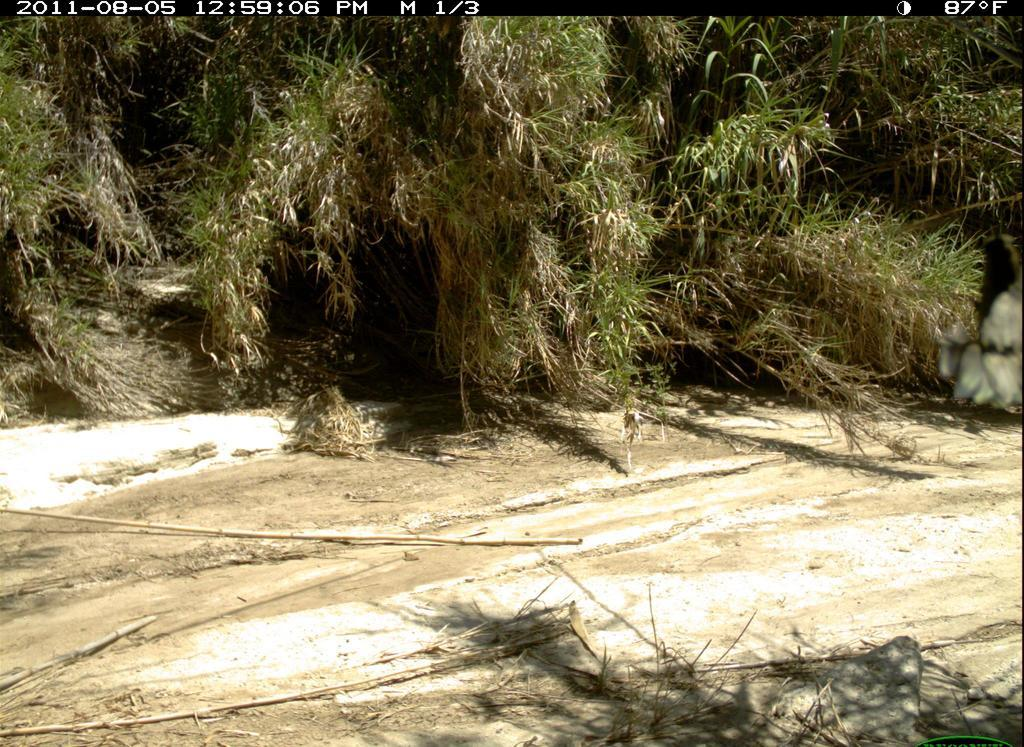bird: (936, 218, 1021, 410)
